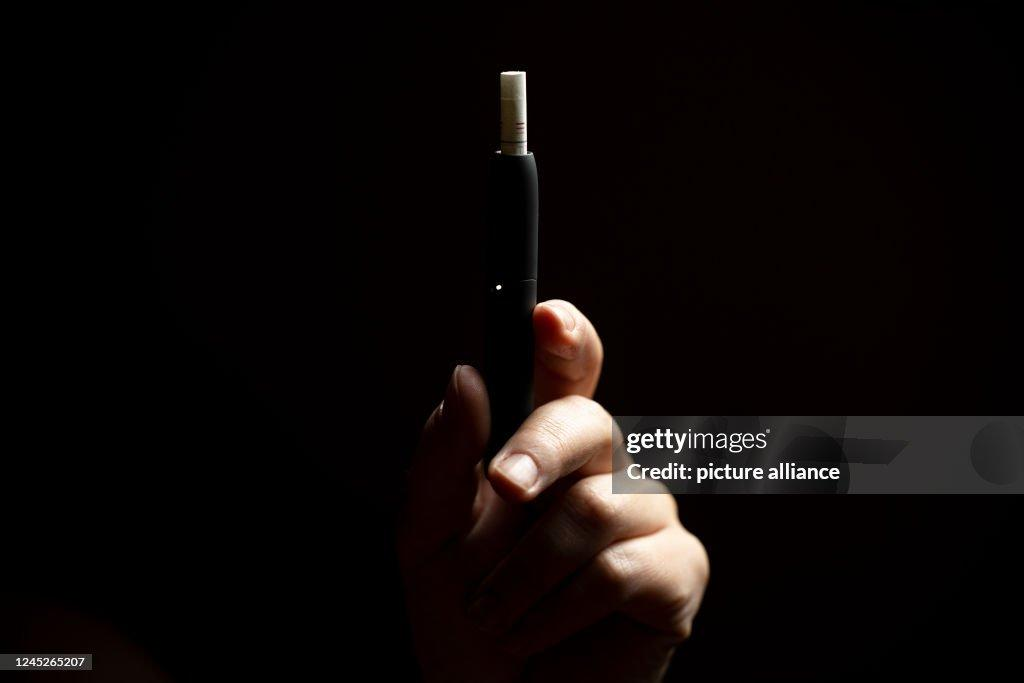iqos: (482, 71, 538, 461)
